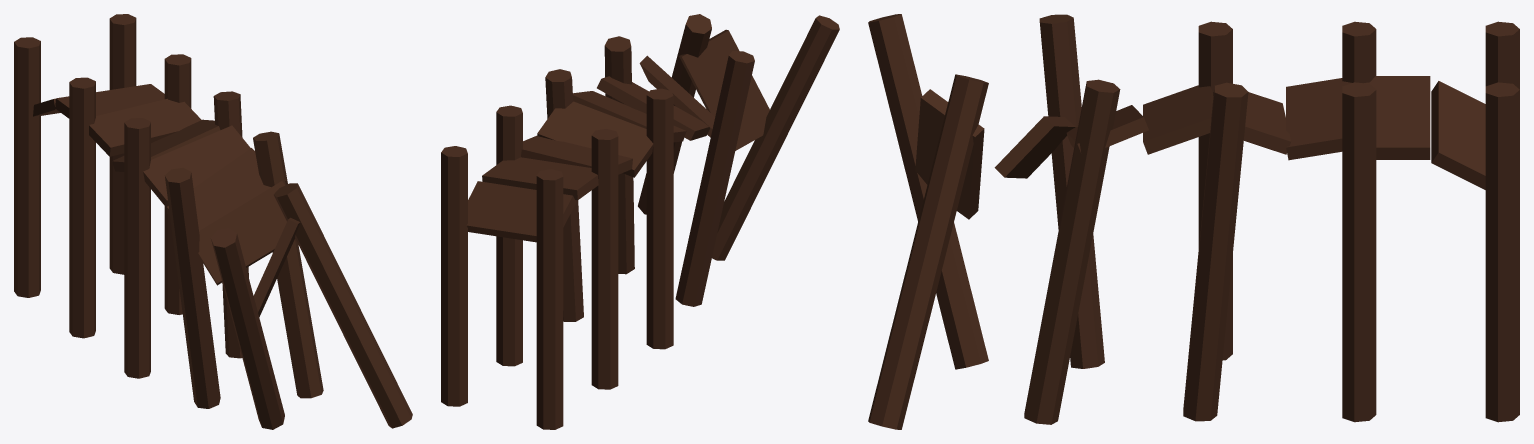
The model's file is magnus_bridge-dP7TXR66.glb.
3 renders of one model, left to right at view 1: azimuth 30°, elevation 25°; view 2: azimuth 150°, elevation 25°; view 3: azimuth 270°, elevation 25°, orthographic. The views are drawn at different scales.
Visible parts, largest first — view 1: Cylinder.009, Cylinder, Cylinder.002, Cylinder.004, Cylinder.006, Cylinder.008, Cylinder.007, Cube.006, Cylinder.001, Cube.004, Cube.005, Cube.002 (+5 smaller); view 2: Cylinder, Cylinder.002, Cylinder.004, Cylinder.006, Cylinder.001, Cylinder.008, Cylinder.003, Cube, Cube.007, Cube.003, Cylinder.005, Cylinder.007 (+6 smaller); view 3: Cylinder.009, Cylinder.007, Cylinder.005, Cylinder.003, Cylinder.001, Cylinder.008, Cylinder.006, Cube, Cube.001, Cube.002, Cylinder.004, Cube.004 (+6 smaller).
Part boxes in pixels (x1=…): Cylinder.009: x1=273, y1=183, x2=412, y2=428; Cylinder: x1=14, y1=37, x2=40, y2=297; Cylinder.002: x1=69, y1=77, x2=95, y2=338; Cylinder.004: x1=124, y1=118, x2=150, y2=378; Cylinder.006: x1=165, y1=168, x2=220, y2=408; Cylinder.008: x1=211, y1=227, x2=284, y2=429; Cylinder.007: x1=253, y1=131, x2=323, y2=398; Cube.006: x1=198, y1=181, x2=286, y2=285; Cylinder.001: x1=109, y1=14, x2=136, y2=274; Cube.004: x1=143, y1=125, x2=250, y2=207; Cube.005: x1=166, y1=148, x2=286, y2=230; Cube.002: x1=89, y1=98, x2=201, y2=156; Cylinder: x1=536, y1=169, x2=563, y2=429; Cylinder.002: x1=591, y1=129, x2=618, y2=389; Cylinder.004: x1=646, y1=88, x2=673, y2=349; Cylinder.006: x1=675, y1=51, x2=754, y2=306; Cylinder.001: x1=441, y1=146, x2=467, y2=406; Cylinder.008: x1=712, y1=15, x2=839, y2=260; Cylinder.003: x1=496, y1=105, x2=522, y2=366; Cube: x1=466, y1=181, x2=576, y2=242; Cube.007: x1=679, y1=29, x2=769, y2=150; Cube.003: x1=537, y1=101, x2=653, y2=177; Cylinder.005: x1=545, y1=69, x2=583, y2=321; Cylinder.007: x1=604, y1=36, x2=634, y2=274; Cylinder.009: x1=868, y1=74, x2=988, y2=429; Cylinder.007: x1=1024, y1=79, x2=1120, y2=424; Cylinder.005: x1=1183, y1=82, x2=1248, y2=421; Cylinder.003: x1=1342, y1=82, x2=1376, y2=422; Cylinder.001: x1=1485, y1=82, x2=1519, y2=422; Cylinder.008: x1=868, y1=14, x2=988, y2=369; Cylinder.006: x1=1039, y1=14, x2=1104, y2=368; Cube: x1=1431, y1=81, x2=1485, y2=189; Cube.001: x1=1364, y1=76, x2=1430, y2=159; Cube.002: x1=1286, y1=78, x2=1351, y2=160; Cylinder.004: x1=1198, y1=21, x2=1232, y2=360; Cube.004: x1=1143, y1=85, x2=1213, y2=154.
Bounding box in the file's own units: 6.67 × 8.04 × 14.54.
